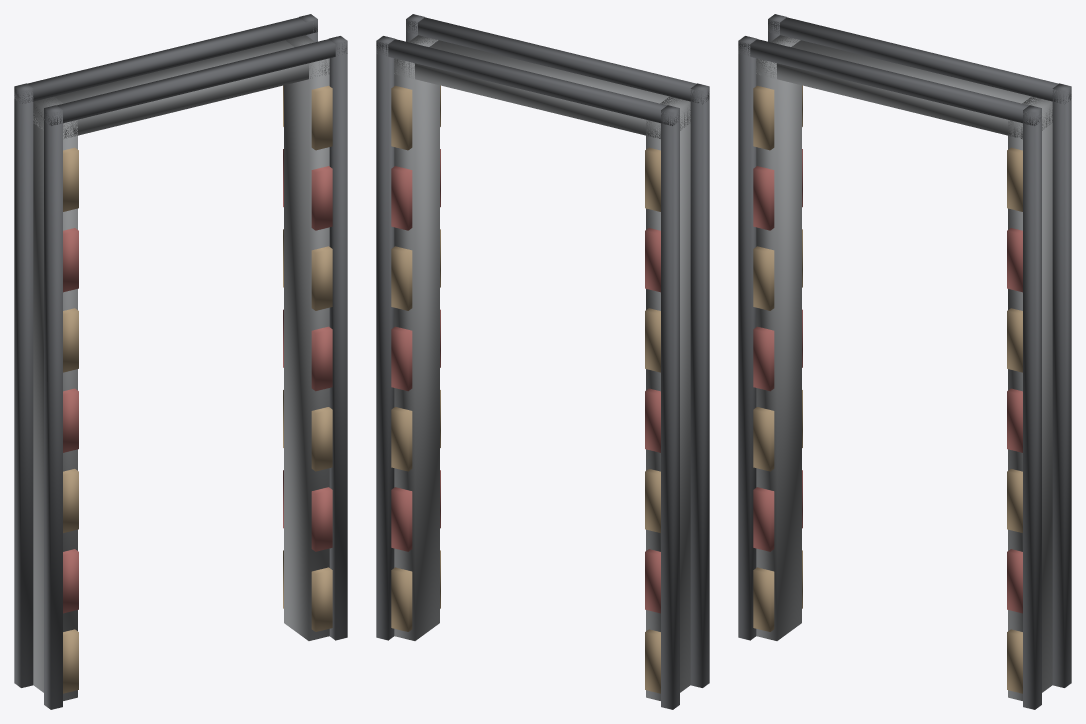
Rendered from doorway_brick_return_w86_h200_d16.glb.
3 renders of one model, left to right at view 1: azimuth 30°, elevation 25°; view 2: azimuth 150°, elevation 25°; view 3: azimuth 330°, elevation 25°, orthographic.
Visible parts, largest first — view 1: world; view 2: world; view 3: world.
Boxes of the visible parts, bbox=[...] form: world: bbox=[14, 14, 347, 709]; world: bbox=[376, 14, 709, 709]; world: bbox=[738, 14, 1071, 709].
Size of the model in its own units: 1.1 by 2.12 by 0.2365.
